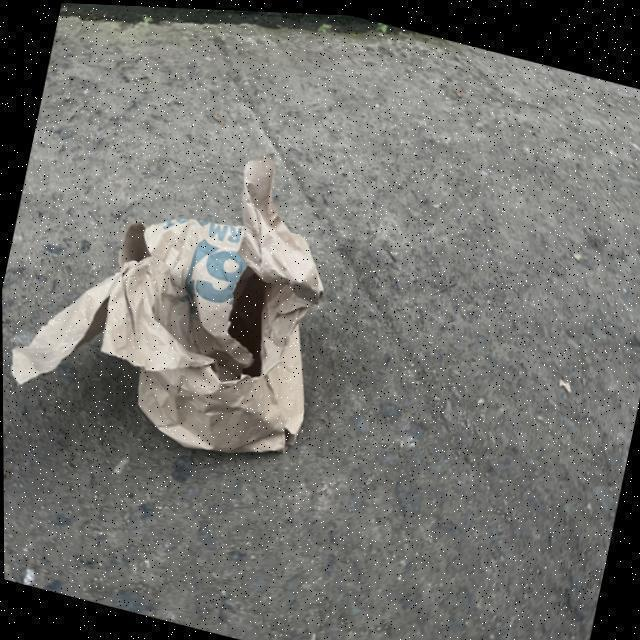Paper_Bag: (4, 104, 352, 474)
